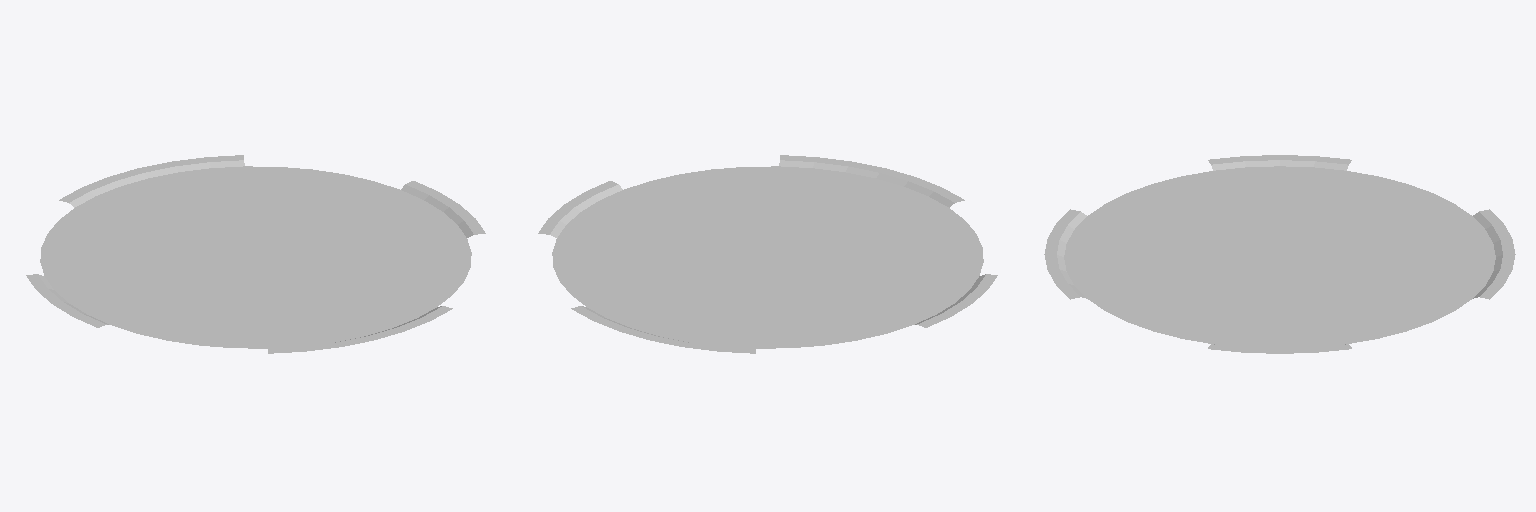
The model's file is Dail.obj.
3 renders of one model, left to right at view 1: azimuth 30°, elevation 25°; view 2: azimuth 150°, elevation 25°; view 3: azimuth 270°, elevation 25°, orthographic.
Parts seen in each view (by area): view 1: Dail Dail; view 2: Dail Dail; view 3: Dail Dail.
Part boxes in pixels (x1,y1,x2,y2): Dail Dail: (26, 155, 485, 353); Dail Dail: (538, 155, 997, 353); Dail Dail: (1044, 155, 1515, 353).
Bounding box in the file's own units: 3.4 × 0.0249 × 3.4.